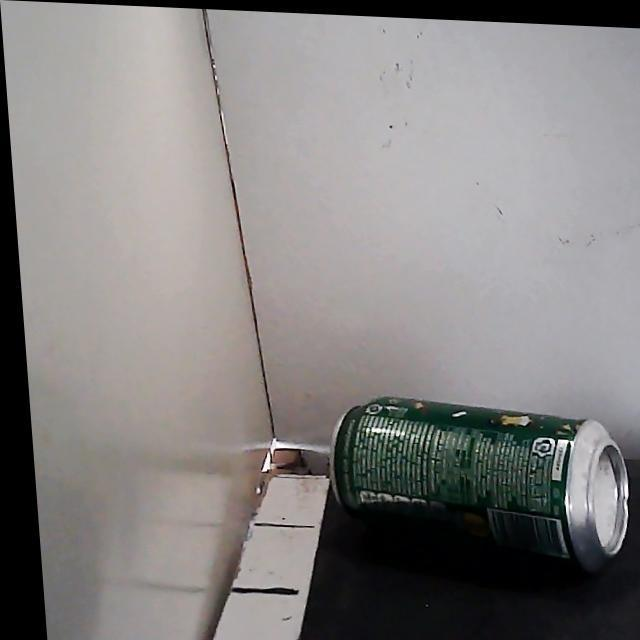metal: (331, 396, 628, 572)
